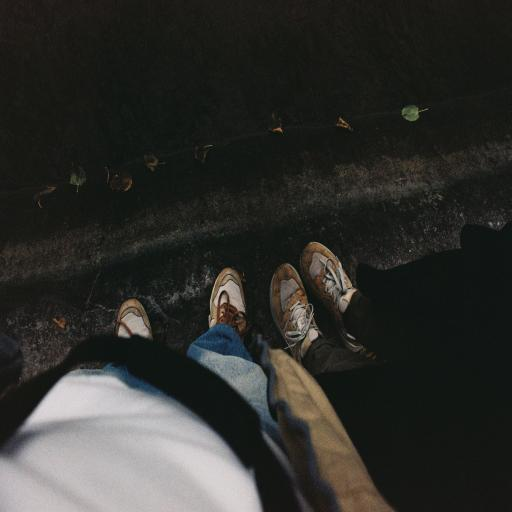shoe: (300, 243, 362, 351), (270, 264, 321, 363), (209, 268, 251, 337), (115, 299, 152, 339)
